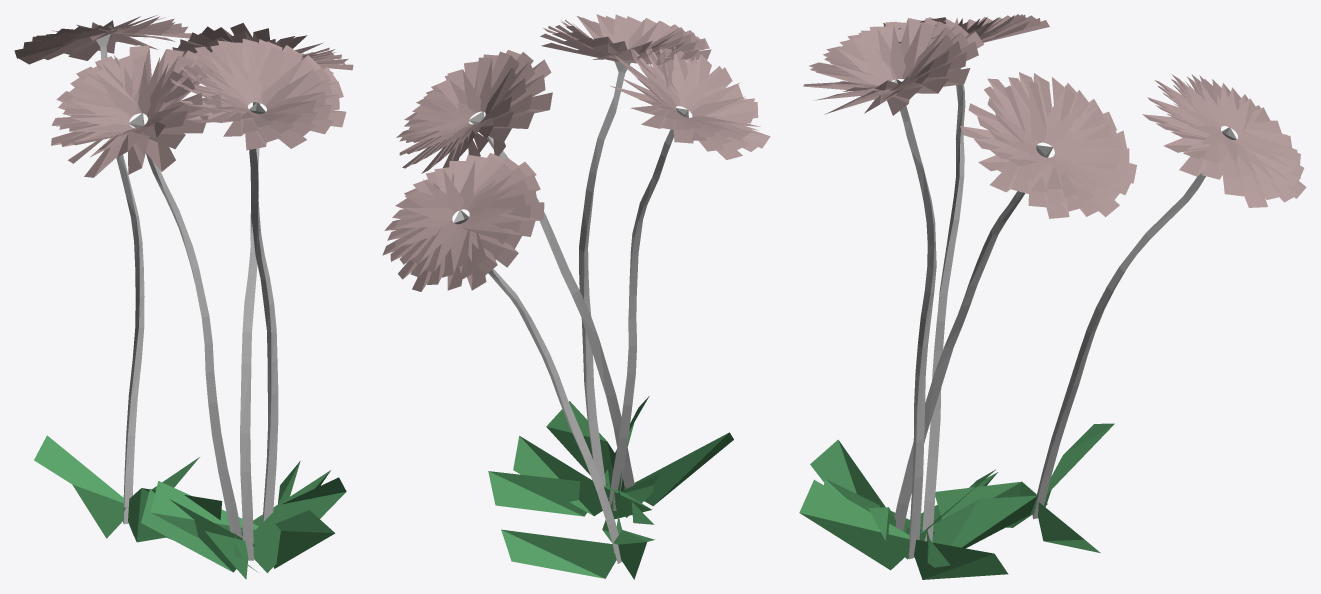
File: DahliaPink.fbx
3 views of the same model, side by side, from view 1: azimuth 30°, elevation 25°; view 2: azimuth 150°, elevation 25°; view 3: azimuth 270°, elevation 25° (orthographic). The views are drawn at different scales.
Visible parts, largest first — view 1: dahliaPink1Flower, dahliaPink1Leaf, dahliaPink1Main; view 2: dahliaPink1Flower, dahliaPink1Leaf, dahliaPink1Main; view 3: dahliaPink1Flower, dahliaPink1Leaf, dahliaPink1Main.
Boxes of the visible parts, x1=… form: dahliaPink1Flower: x1=14, y1=15, x2=353, y2=177; dahliaPink1Leaf: x1=34, y1=435, x2=346, y2=579; dahliaPink1Main: x1=96, y1=34, x2=278, y2=560; dahliaPink1Flower: x1=382, y1=14, x2=770, y2=291; dahliaPink1Leaf: x1=488, y1=396, x2=733, y2=579; dahliaPink1Main: x1=453, y1=61, x2=688, y2=563; dahliaPink1Flower: x1=803, y1=14, x2=1306, y2=218; dahliaPink1Leaf: x1=799, y1=423, x2=1114, y2=579; dahliaPink1Main: x1=893, y1=68, x2=1236, y2=559.
Size of the model in its own units: 0.8071 by 1.25 by 1.08.
